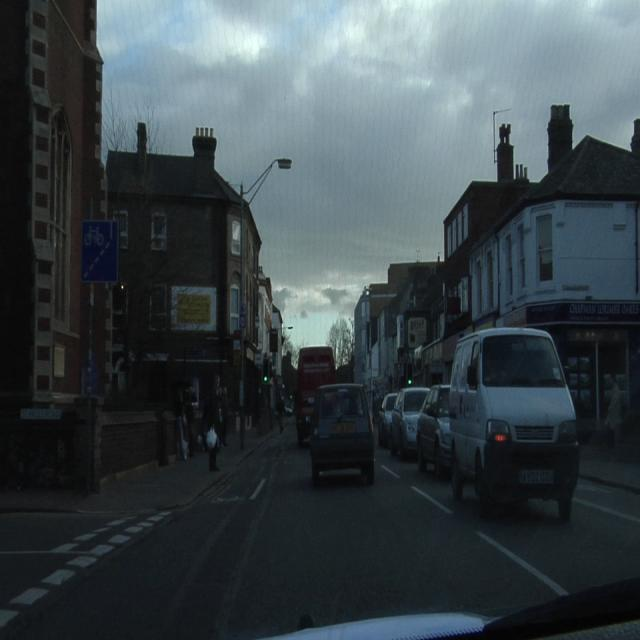Building: (355, 107, 639, 395), (103, 126, 286, 427), (32, 1, 104, 407)
Car: (311, 385, 374, 485), (380, 389, 427, 455), (418, 385, 451, 474)
Road: (2, 431, 639, 636)
Tree: (328, 318, 354, 368)
Truck_Bus: (452, 327, 578, 515)
